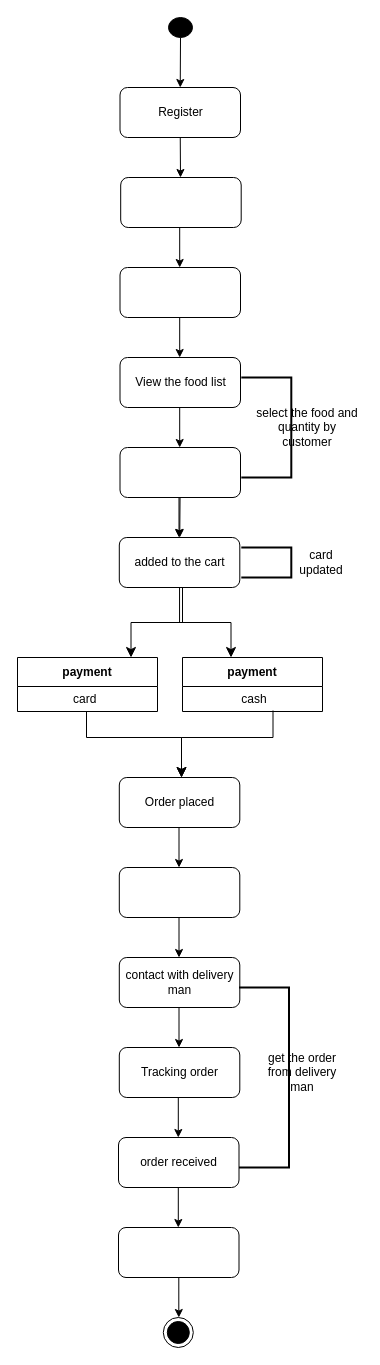
This 380x1365 diagram has some shape labels left out. Here are the shapes that lost their labels. From the top down, the box of each, then its label:
(120, 176, 241, 228): login
(119, 266, 240, 318): searching shops and restaurents
(119, 446, 240, 498): food selected
(118, 866, 240, 918): Checking availability for food and delivery man
(118, 1226, 239, 1278): rate for delivery
